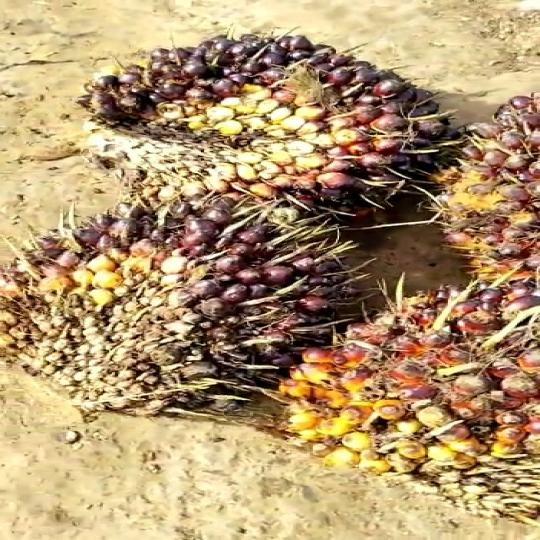kurang masak: (59, 24, 463, 234), (23, 193, 337, 436), (295, 279, 540, 522)
